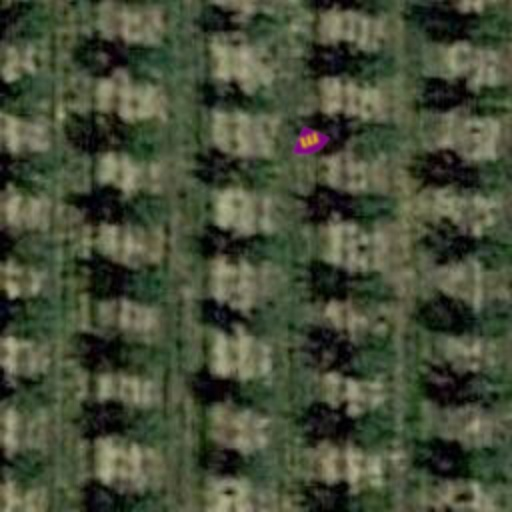quarter_circle: (284, 116, 336, 168)
